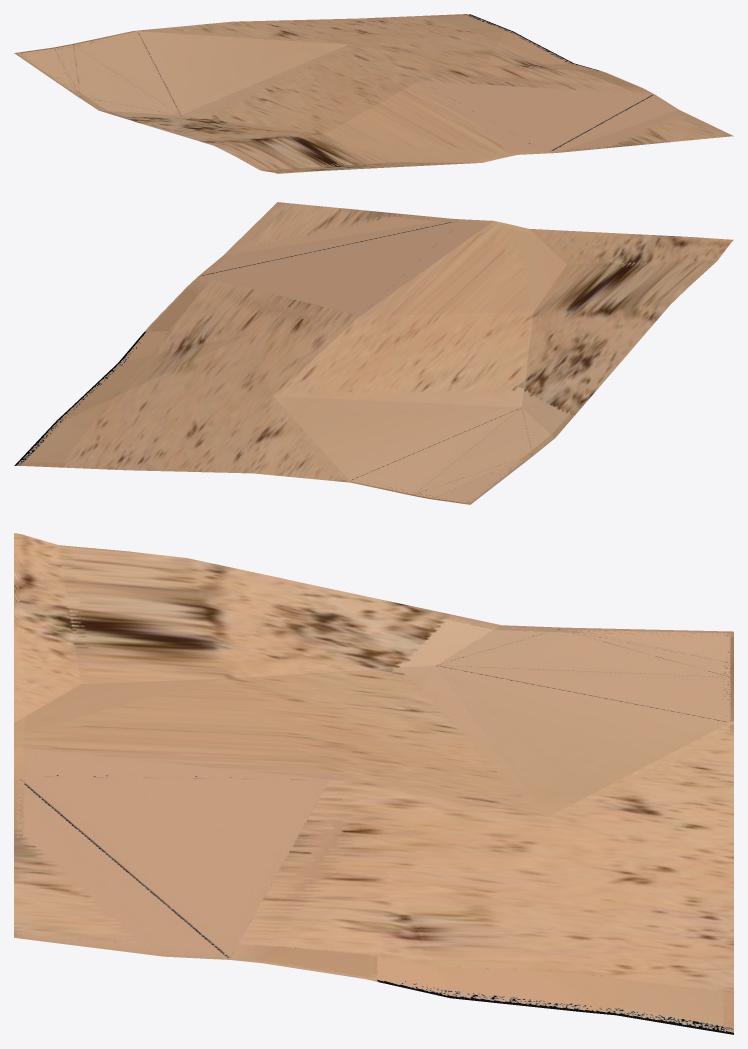
3 views of the same model, one above another, from view 1: azimuth 30°, elevation 25°; view 2: azimuth 150°, elevation 25°; view 3: azimuth 270°, elevation 25° (orthographic). The views are drawn at different scales.
Bounding box in the file's own units: 2.09 × 0.6327 × 2.09.
2 materials, 2 textured.
